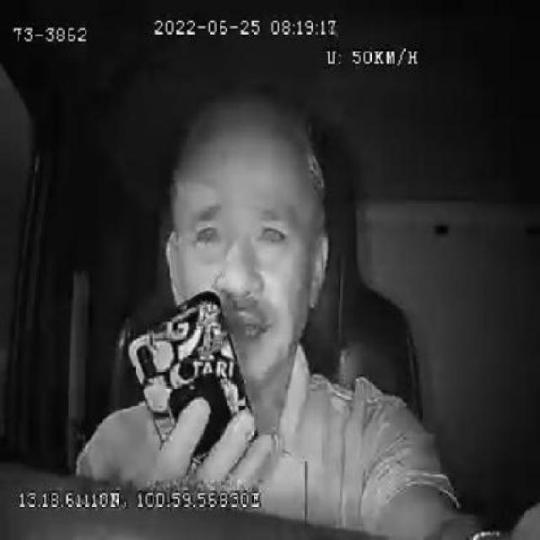phone: (124, 286, 252, 450)
